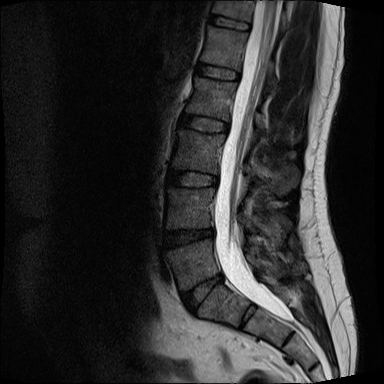Lumbar Disc Bulge (LDB): (175, 268, 229, 319), (157, 222, 223, 250)
Normal IVD: (159, 166, 223, 192), (178, 110, 232, 138), (192, 58, 243, 85), (206, 14, 256, 33)
Spinal Stenosis (SS): (206, 222, 219, 244)
Spondylolisthesis: (152, 250, 251, 324)
